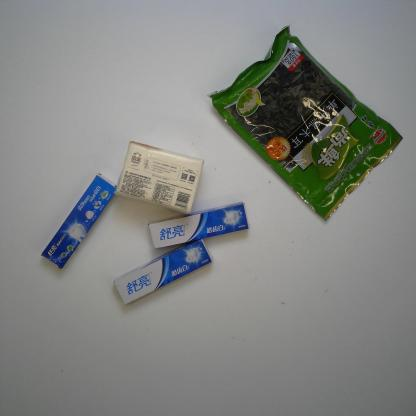Dried Food: (205, 23, 404, 227)
Personal Hygiene: (40, 171, 118, 271), (110, 238, 216, 308), (146, 200, 248, 251)
Tissue: (111, 139, 205, 217)
